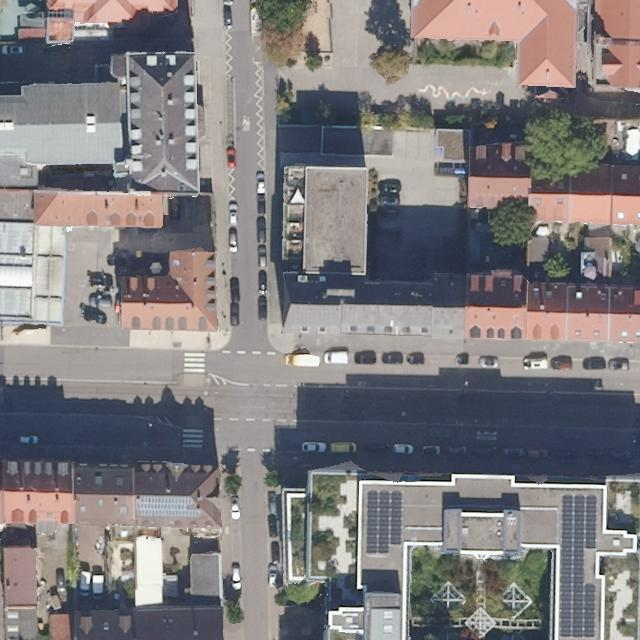PV: (558, 494, 598, 639), (364, 486, 401, 553), (137, 496, 202, 522)
